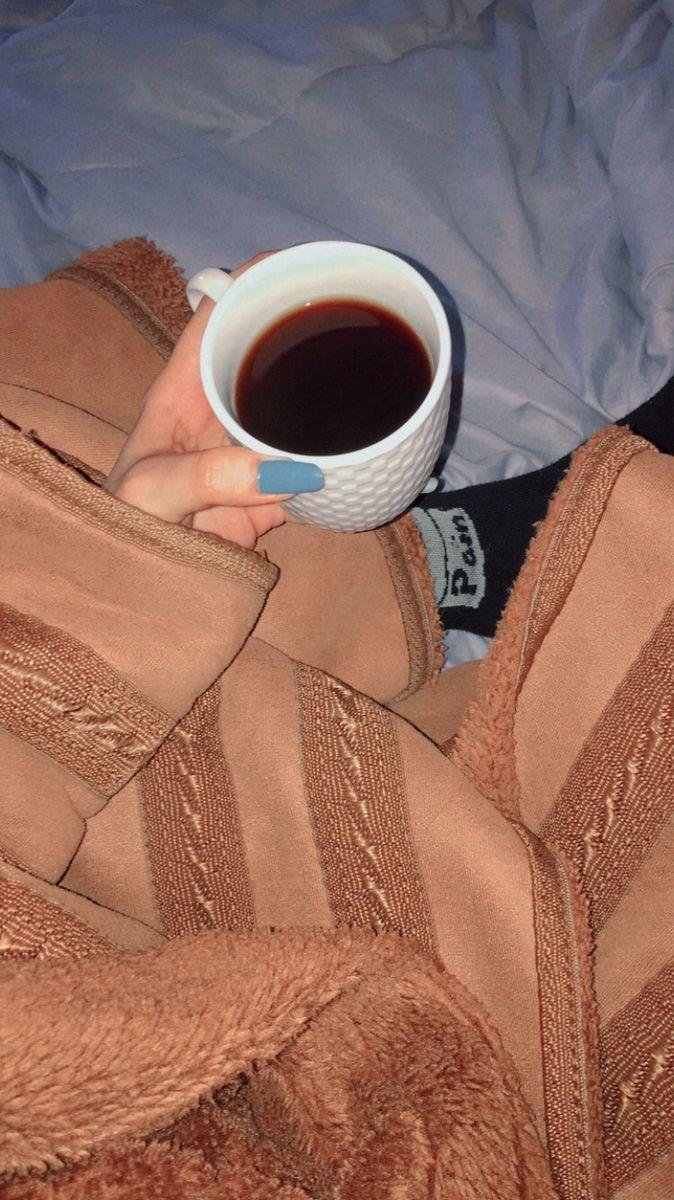cup-handle: (189, 238, 464, 535)
